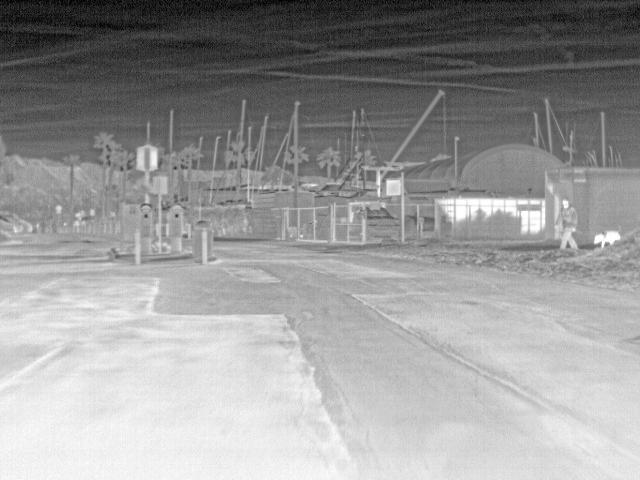dog: (592, 229, 621, 248)
person: (553, 196, 580, 252)
